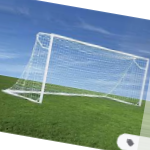goals: (2, 28, 150, 108)
